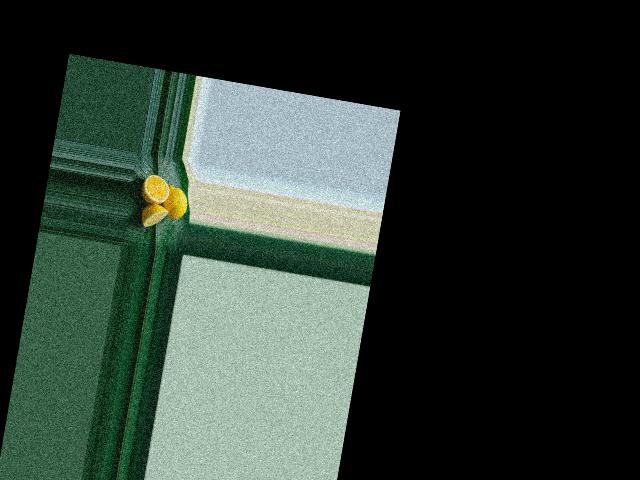lemon: (158, 179, 190, 221)
